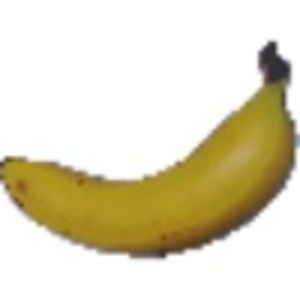banana: (3, 36, 296, 257)
